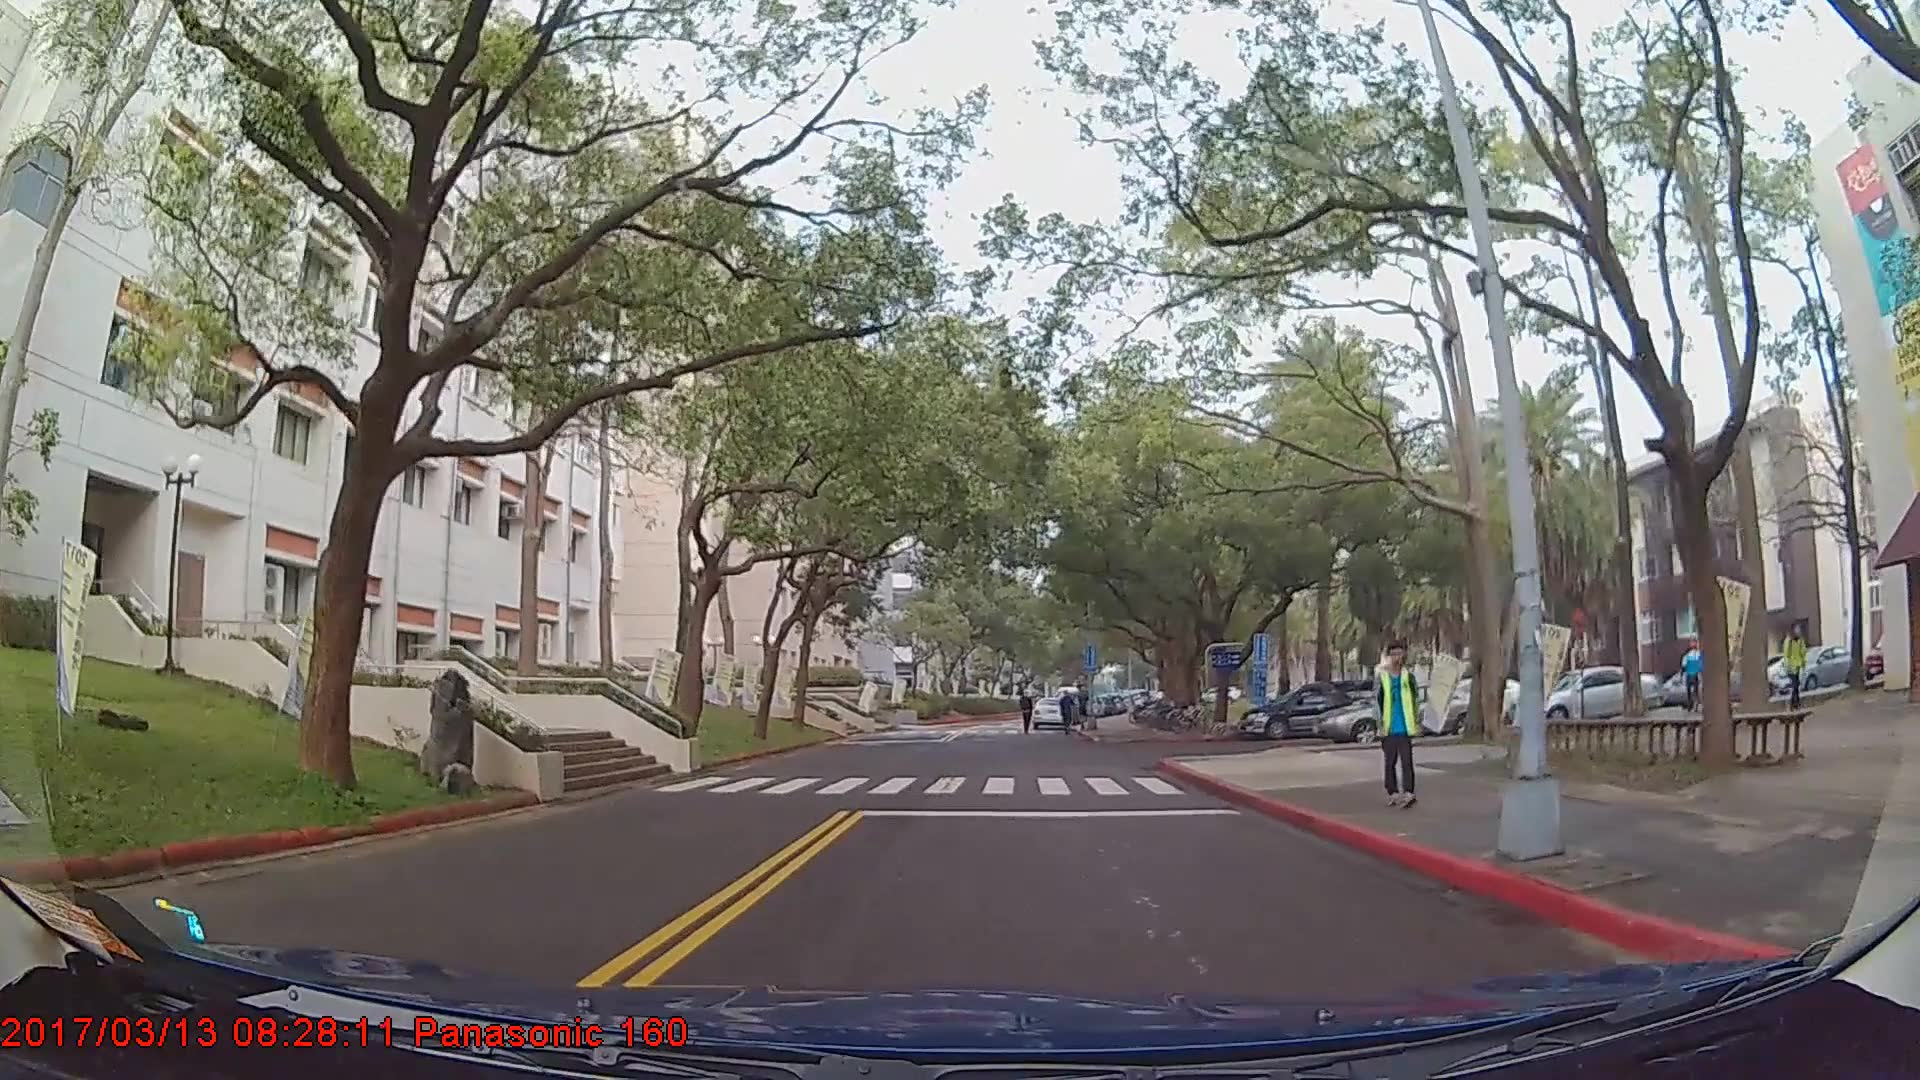pedestrian: (1369, 635, 1422, 803), (1784, 623, 1809, 716), (1058, 688, 1078, 733)
vehicle: (1318, 677, 1489, 740), (1515, 665, 1659, 729), (1241, 679, 1377, 737), (1768, 642, 1860, 692), (1030, 693, 1071, 730)
